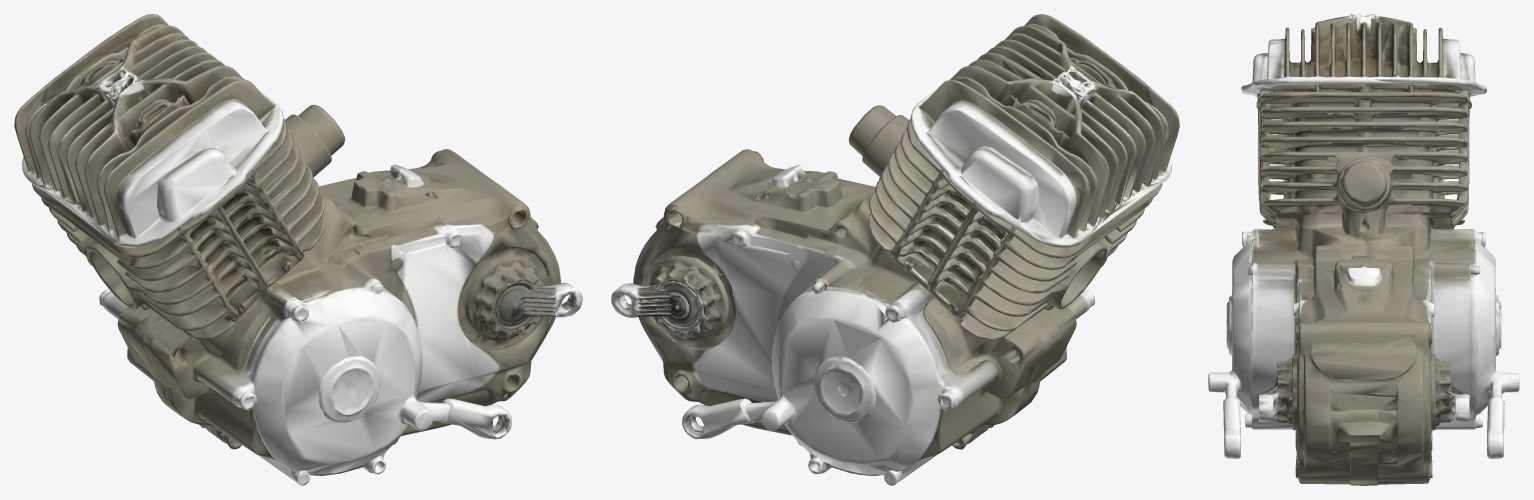
File: engine.glb
The picture shows the model from 3 angles, left to right: view 1: azimuth 30°, elevation 25°; view 2: azimuth 150°, elevation 25°; view 3: azimuth 270°, elevation 25°; orthographic projection. The views are drawn at different scales.
Parts seen in each view (by area): view 1: output_unwrapped; view 2: output_unwrapped; view 3: output_unwrapped.
Part boxes in pixels (box(x1,y1,x2,y2)): output_unwrapped: box(14, 14, 582, 485); output_unwrapped: box(611, 14, 1179, 485); output_unwrapped: box(1208, 14, 1519, 485).
Size of the model in its own units: 1.9 by 1.54 by 1.23.
Materials: 1 (1 with a texture image).
